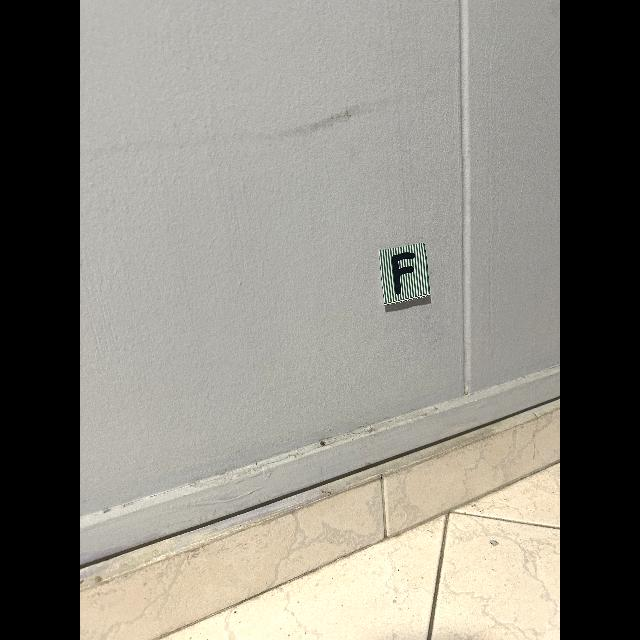F: (392, 252, 415, 295)
